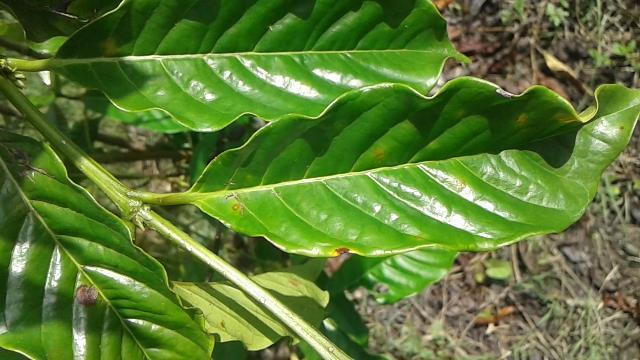rust_level_1: (188, 72, 640, 260)
